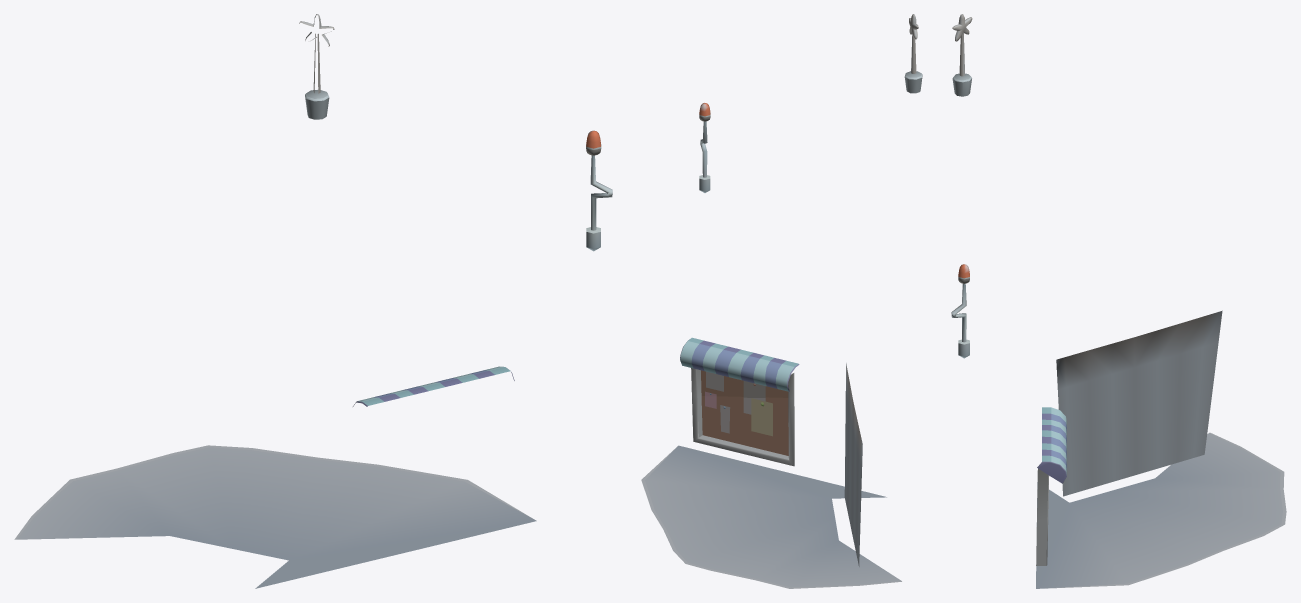
Rendered from ExchangeStone.glb.
3 views of the same model, side by side, from view 1: azimuth 30°, elevation 25°; view 2: azimuth 150°, elevation 25°; view 3: azimuth 270°, elevation 25° (orthographic). The views are drawn at different scales.
Visible parts, largest first — view 1: ExchangeStone; view 2: ExchangeStone; view 3: ExchangeStone.
Part boxes in pixels (bbox=[...]): ExchangeStone: bbox=[14, 14, 612, 588]; ExchangeStone: bbox=[641, 14, 922, 588]; ExchangeStone: bbox=[951, 14, 1286, 588].
Size of the model in its own units: 4.68 by 6.25 by 4.01.
